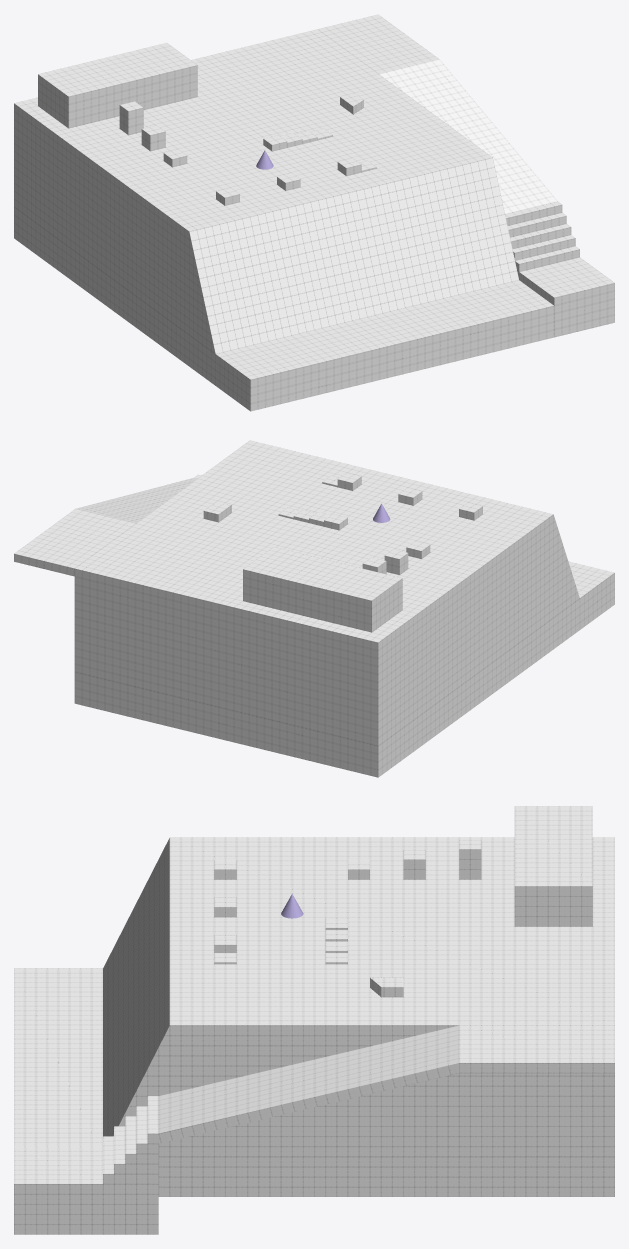
The model's file is playground.glb.
3 views of the same model, one above another, from view 1: azimuth 30°, elevation 25°; view 2: azimuth 150°, elevation 25°; view 3: azimuth 270°, elevation 25° (orthographic). The views are drawn at different scales.
Parts seen in each view (by area): view 1: Floor, Cube.001, Wall, Cube.002, Cube.003; view 2: Floor, Wall, Cube.001, Cube.003; view 3: Floor, Cube.001, Wall, Cube.002, Cube.003, Cube.007.
Boxes of the visible parts, <box> form: Floor: <box>14,29,554,411</box>; Cube.001: <box>318,14,614,337</box>; Wall: <box>38,43,197,128</box>; Cube.002: <box>119,101,143,135</box>; Cube.003: <box>141,125,165,151</box>; Floor: <box>74,440,614,777</box>; Wall: <box>243,547,402,632</box>; Cube.001: <box>14,474,201,576</box>; Cube.003: <box>384,549,408,574</box>; Floor: <box>14,837,614,1196</box>; Cube.001: <box>14,1025,614,1234</box>; Wall: <box>514,806,592,926</box>; Cube.002: <box>459,840,481,879</box>; Cube.003: <box>403,850,425,879</box>; Cube.007: <box>370,977,403,997</box>.
Size of the model in its own units: 48 by 21 by 54.
2 materials, 1 textured.
